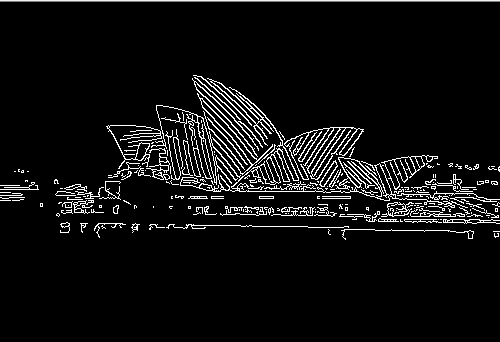opera house: (64, 73, 446, 207)
